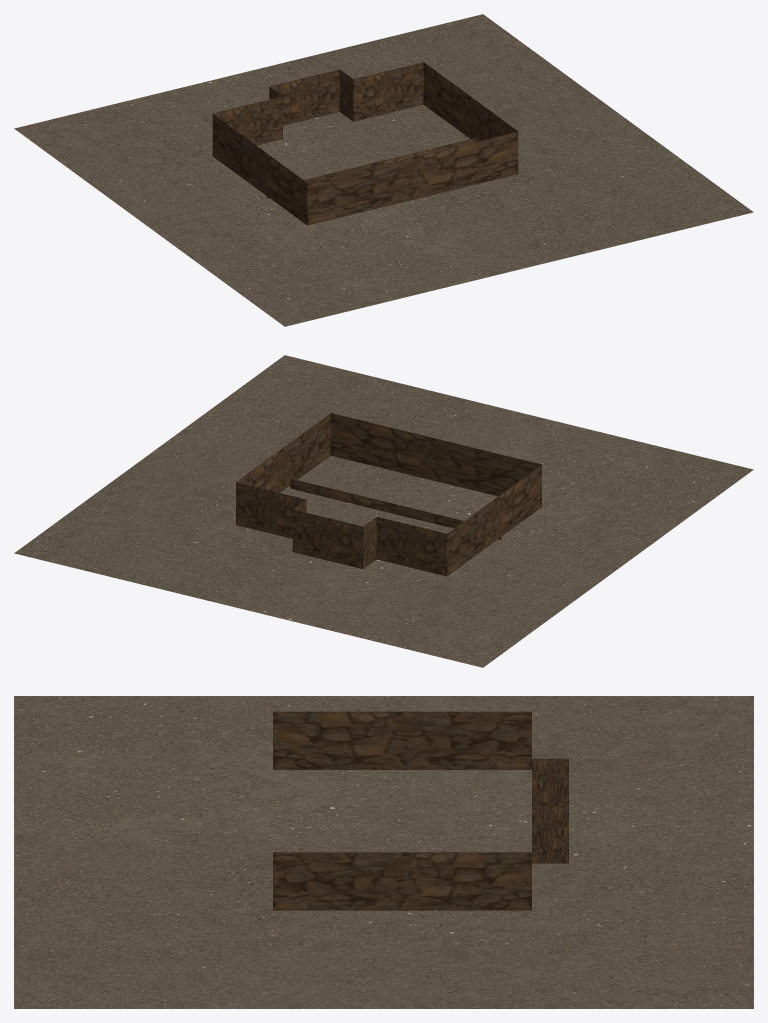
Rendered from WallObjs.fbx.
3 views of the same model, one above another, from view 1: azimuth 30°, elevation 25°; view 2: azimuth 150°, elevation 25°; view 3: azimuth 270°, elevation 25° (orthographic). The views are drawn at different scales.
Visible parts, largest first — view 1: Plane, e__1_, e__2_, e__3_, e__4_, e__6_, e__5_, e__9_, e__8_; view 2: Plane, e__1_, e__2_, e__3_, e__6_, e__5_, e__4_, e__9_, e__7_; view 3: Plane, e__2_, e__3_, e__8_, e__7_.
Part boxes in pixels (x1,y1,x2,y2): Plane: (14,14,753,326); e__1_: (307,131,518,225); e__2_: (212,114,307,225); e__3_: (423,62,517,141); e__4_: (353,62,423,121); e__6_: (269,69,339,125); e__5_: (213,96,282,145); e__9_: (266,137,477,198); e__8_: (339,69,353,121); Plane: (14,355,753,667); e__1_: (330,413,541,496); e__2_: (447,464,541,576); e__3_: (236,413,330,492); e__6_: (292,509,363,568); e__5_: (376,517,446,576); e__4_: (236,482,305,538); e__9_: (290,478,501,539); e__7_: (363,517,376,568); Plane: (14,696,753,1008); e__2_: (273,711,531,769); e__3_: (273,852,531,910); e__8_: (532,805,568,863); e__7_: (532,758,568,805).
Size of the model in its own units: 2000 by 320 by 2000.
Materials: 2 (2 with a texture image).
